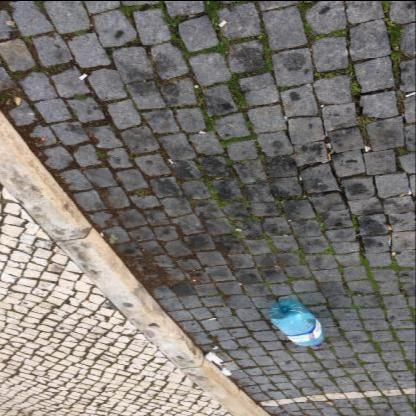Bottle cap: (269, 300, 326, 346)
Cigarette: (218, 18, 228, 26), (79, 72, 88, 79), (406, 90, 414, 96), (207, 316, 216, 320), (324, 158, 332, 162), (400, 192, 408, 195), (328, 142, 332, 147), (388, 224, 392, 229), (392, 251, 396, 255), (100, 232, 104, 236), (328, 152, 330, 158), (390, 236, 392, 242), (300, 174, 302, 180), (223, 364, 226, 367), (326, 143, 328, 147), (389, 241, 391, 245), (232, 360, 234, 364)
